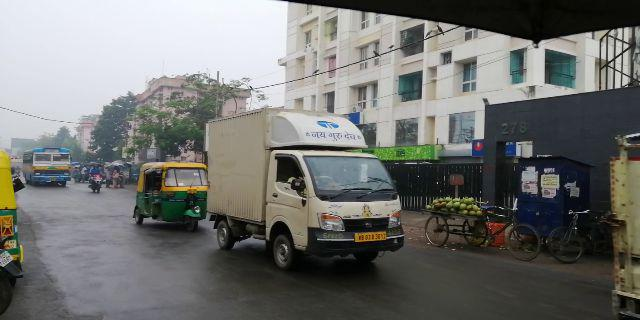Autorickshaw: (137, 160, 207, 235)
Bus: (29, 143, 75, 188)
Minitruck: (209, 110, 407, 264)
Rickshaw: (424, 198, 540, 266)
